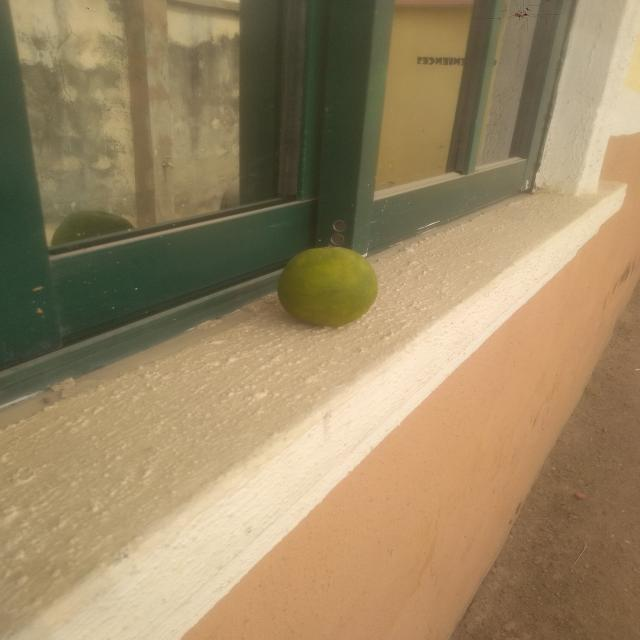Ripe orange: (265, 236, 400, 336)
